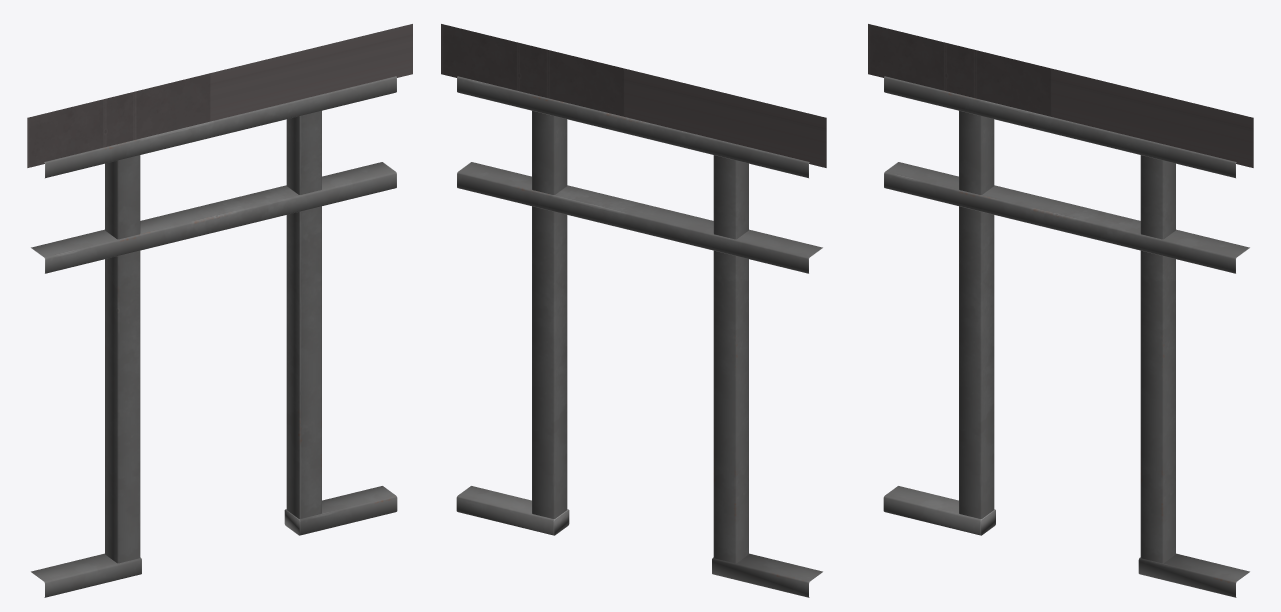
The model's file is SM_Building_Wall_03.glb.
3 views of the same model, side by side, from view 1: azimuth 30°, elevation 25°; view 2: azimuth 150°, elevation 25°; view 3: azimuth 330°, elevation 25° (orthographic).
Parts seen in each view (by area): view 1: SM_Building_Wall_03; view 2: SM_Building_Wall_03; view 3: SM_Building_Wall_03.
Part boxes in pixels (x1,y1,x2,y2): SM_Building_Wall_03: (27,24,412,597); SM_Building_Wall_03: (441,24,826,597); SM_Building_Wall_03: (868,24,1253,597).
Bounding box in the file's own units: 2.5 × 3 × 0.17.
Materials: 2 (2 with a texture image).
